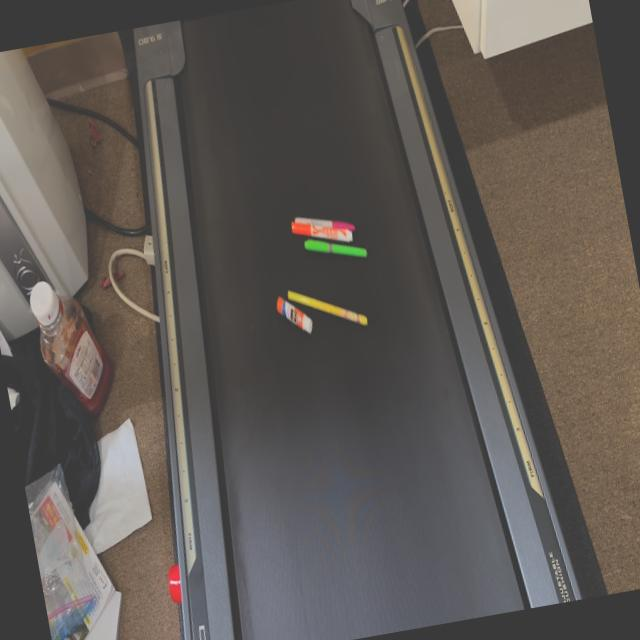Trash: (272, 273, 372, 351), (288, 204, 370, 272)
